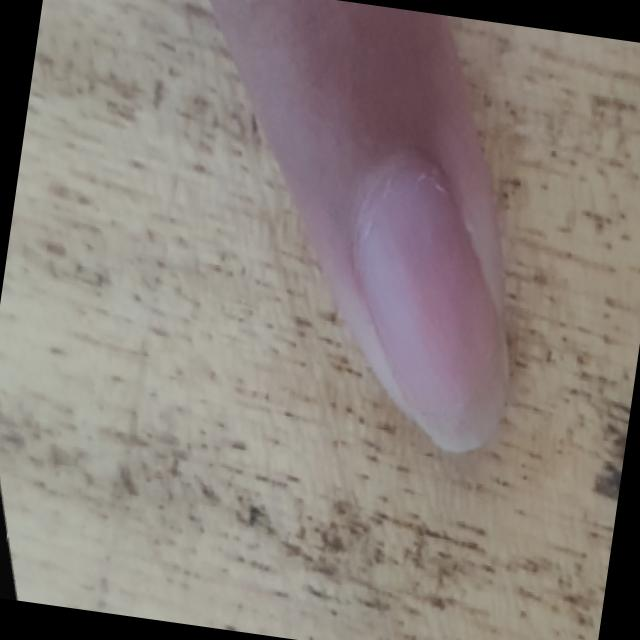Nail: (354, 171, 506, 452)
